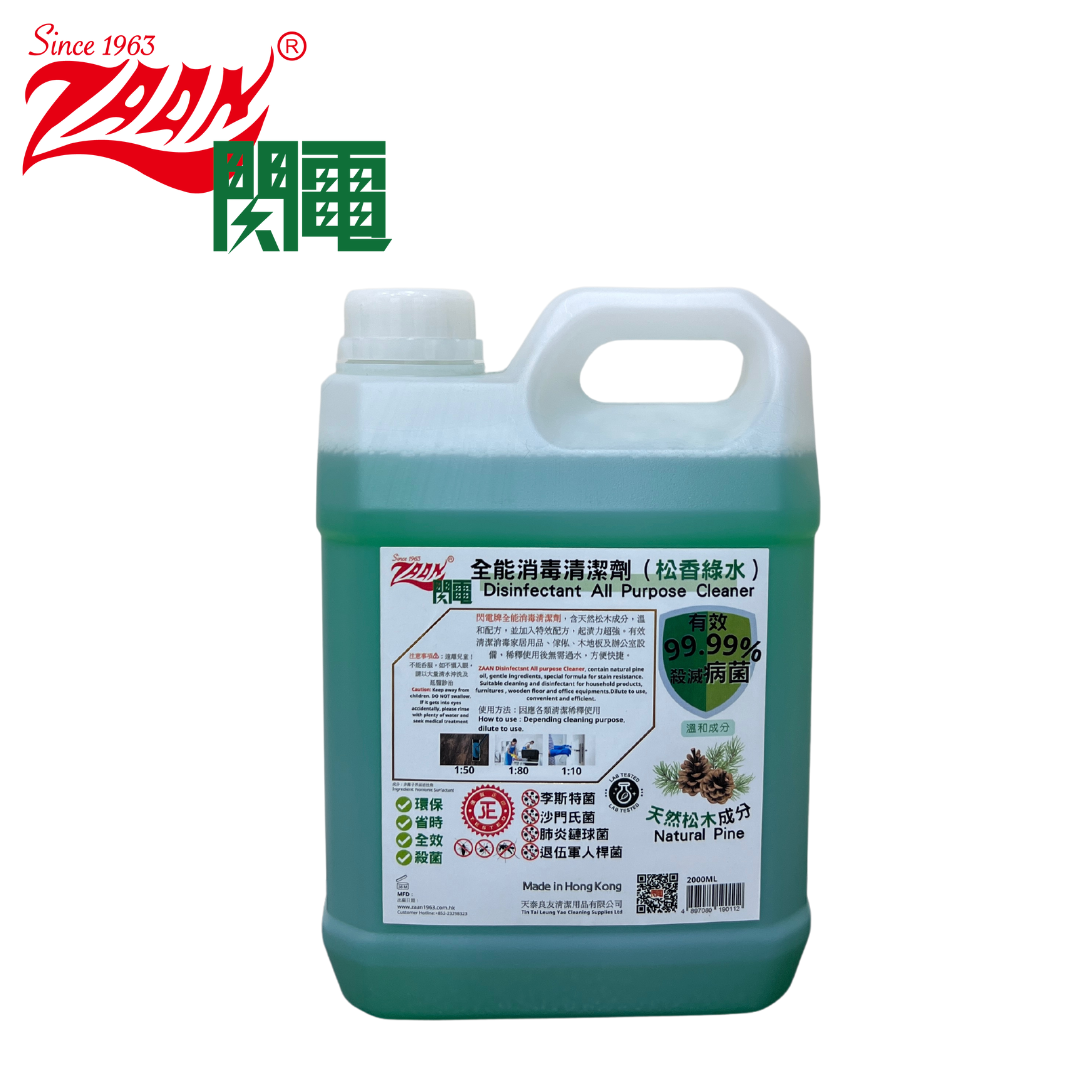cleaner: (289, 267, 839, 1031)
